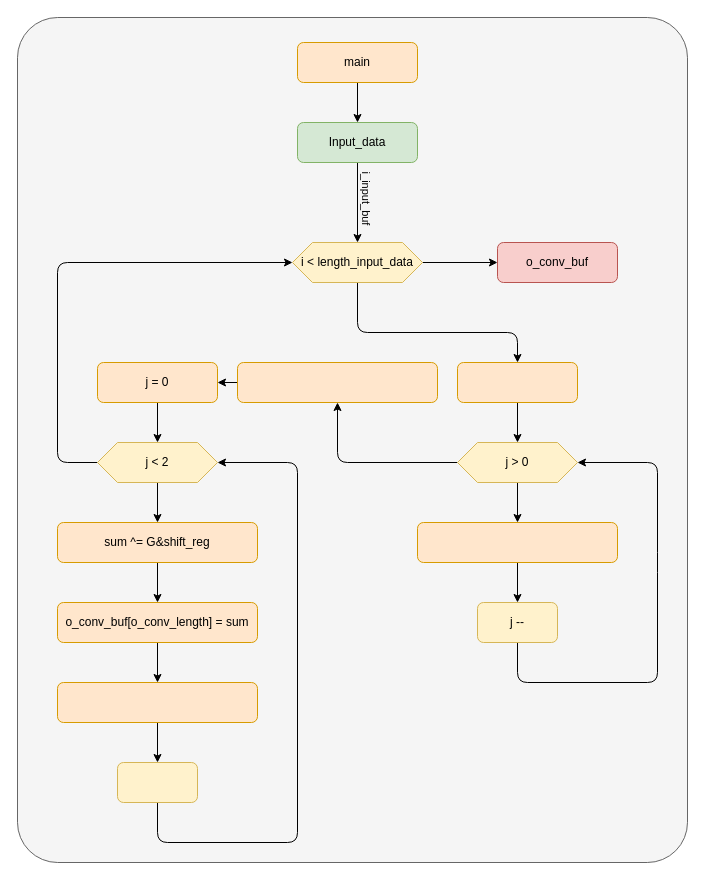
Some shapes in this 705 by 880 pixel diagram are drawn without their labels. The shapes that lost their labels are listed below. From the top down, each one's centre as x and y in pixels, then its label:
At point (337, 382): "shift_reg[0] = i_input_buf[i]".
At point (517, 382): "j = K - 1".
At point (517, 542): "shift_reg[j] = shift_reg[j - 1]".
At point (157, 702): "o_conv_length ++".
At point (157, 782): "j ++".
